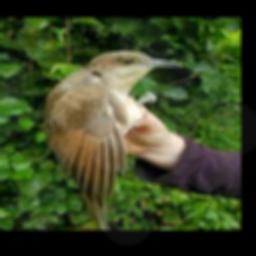Cuckoo: (42, 51, 183, 229)
